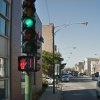Traffic light: (16, 5, 43, 80)
